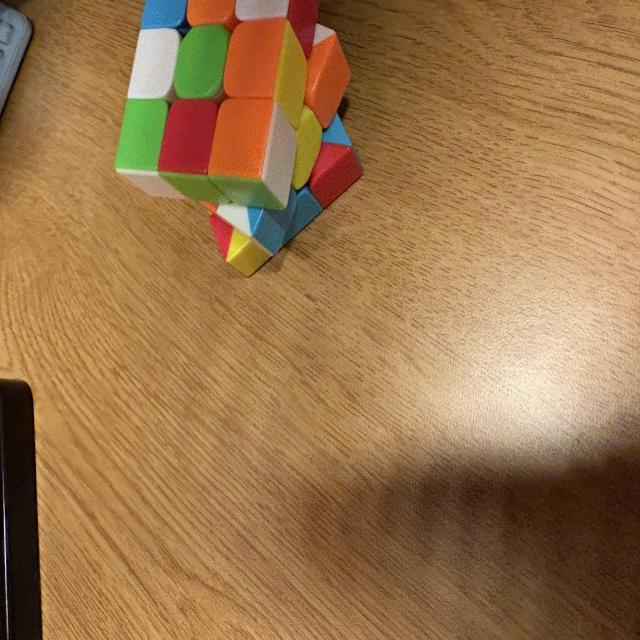Rubiks Cube: (114, 0, 363, 278)
